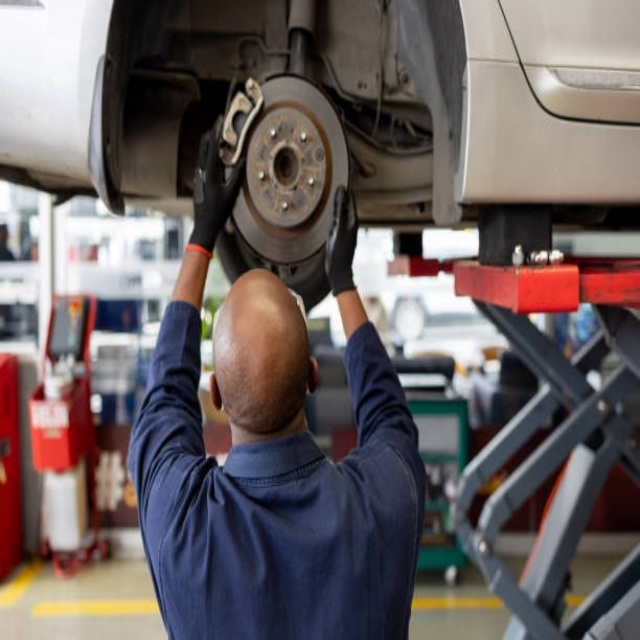Guantes: (188, 124, 245, 259), (324, 184, 359, 298)
